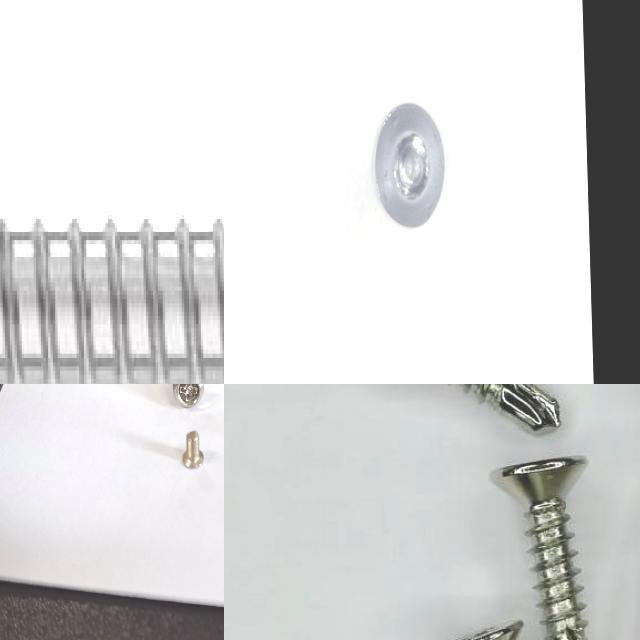Screw: (0, 224, 224, 384), (493, 456, 589, 640), (376, 103, 444, 226), (466, 384, 560, 430), (180, 428, 206, 471), (170, 384, 205, 411)
